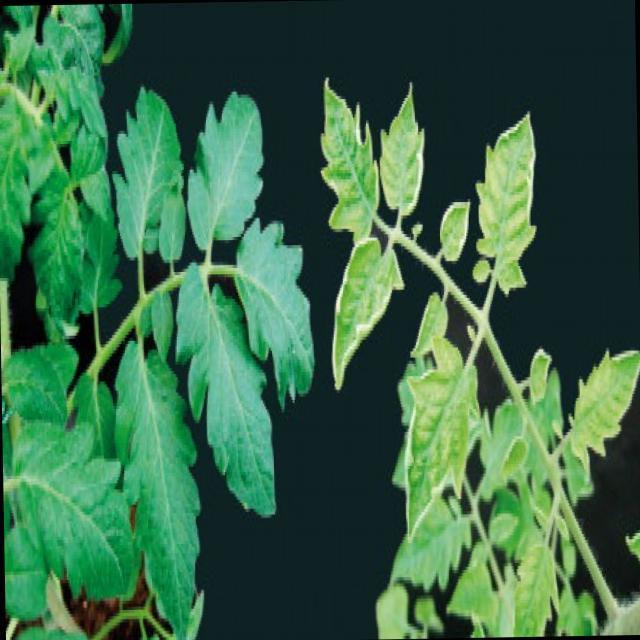Healthy Leaf: (178, 272, 280, 539), (117, 340, 202, 640), (230, 224, 324, 405), (112, 81, 192, 268), (192, 79, 264, 254)
Yellow Curl Virus: (400, 332, 482, 544), (472, 114, 545, 295), (329, 242, 403, 392), (318, 76, 376, 240), (562, 343, 640, 461), (379, 70, 425, 211), (512, 538, 560, 637), (409, 286, 451, 362), (438, 194, 469, 263), (526, 337, 554, 409)
